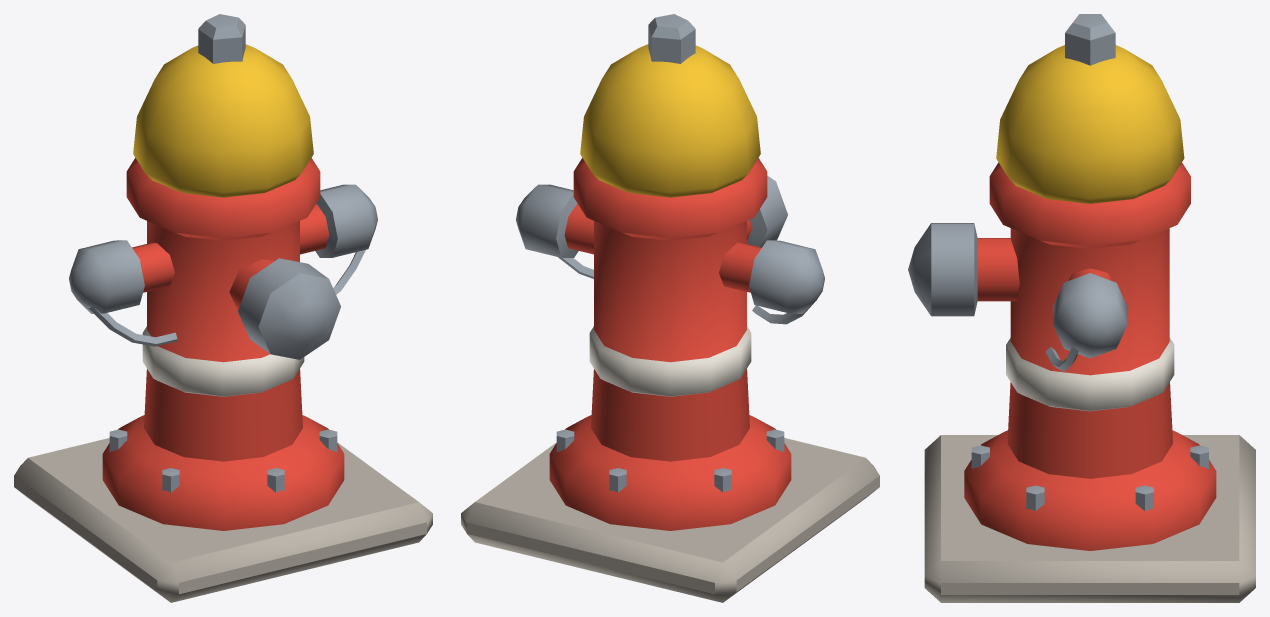
File: prop_hydrant.glb
3 views of the same model, side by side, from view 1: azimuth 30°, elevation 25°; view 2: azimuth 150°, elevation 25°; view 3: azimuth 270°, elevation 25° (orthographic). The views are drawn at different scales.
Parts seen in each view (by area): view 1: body; view 2: body; view 3: body.
Boxes of the visible parts, x1=… form: body: x1=14, y1=14, x2=432, y2=602; body: x1=461, y1=14, x2=879, y2=602; body: x1=908, y1=14, x2=1255, y2=602.
Bounding box in the file's own units: 0.55 × 0.867 × 0.525.
